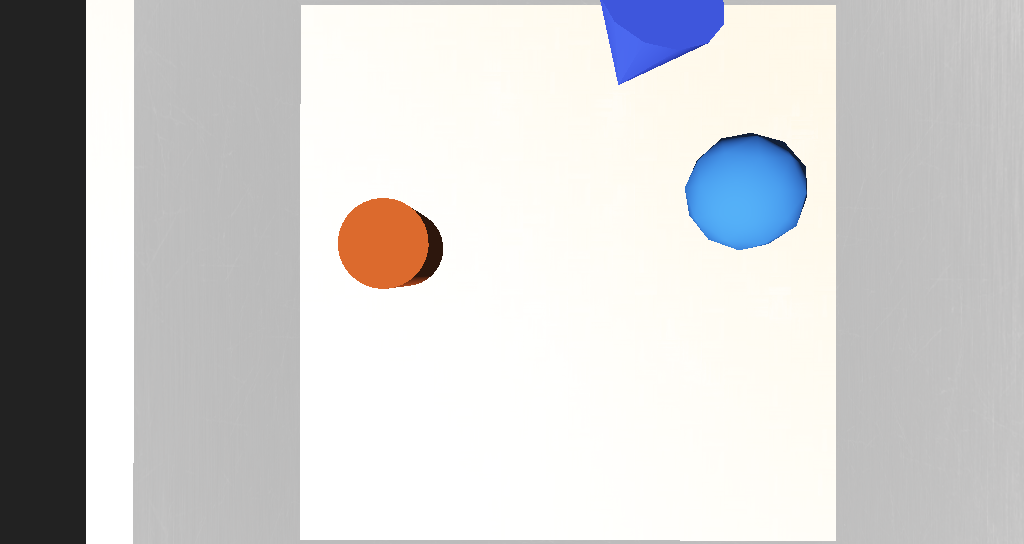cone: (381, 241, 441, 274)
cylinder: (499, 146, 579, 217)
sphere: (566, 217, 633, 260)
